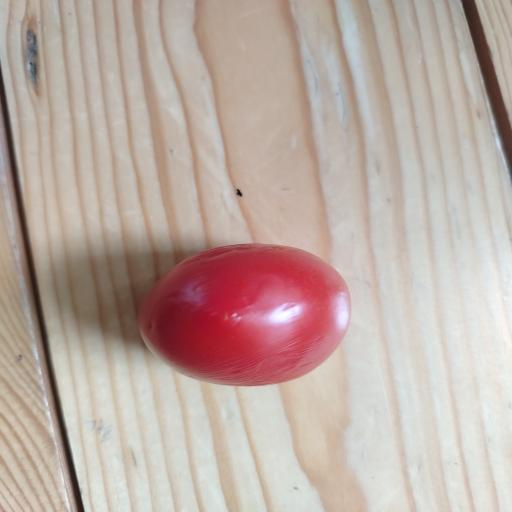overipe: (138, 244, 351, 386)
